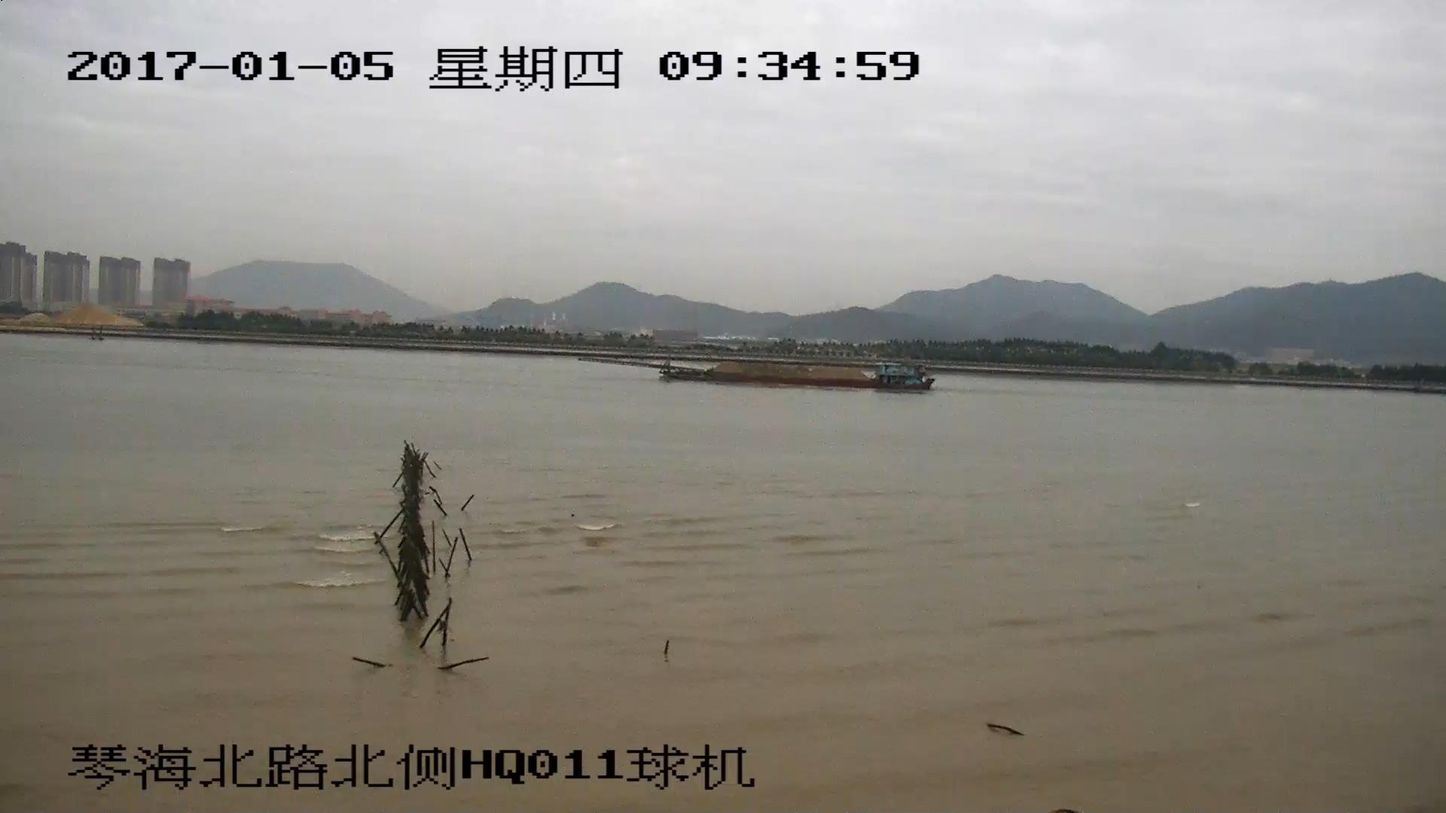ore carrier: (578, 352, 930, 394)
